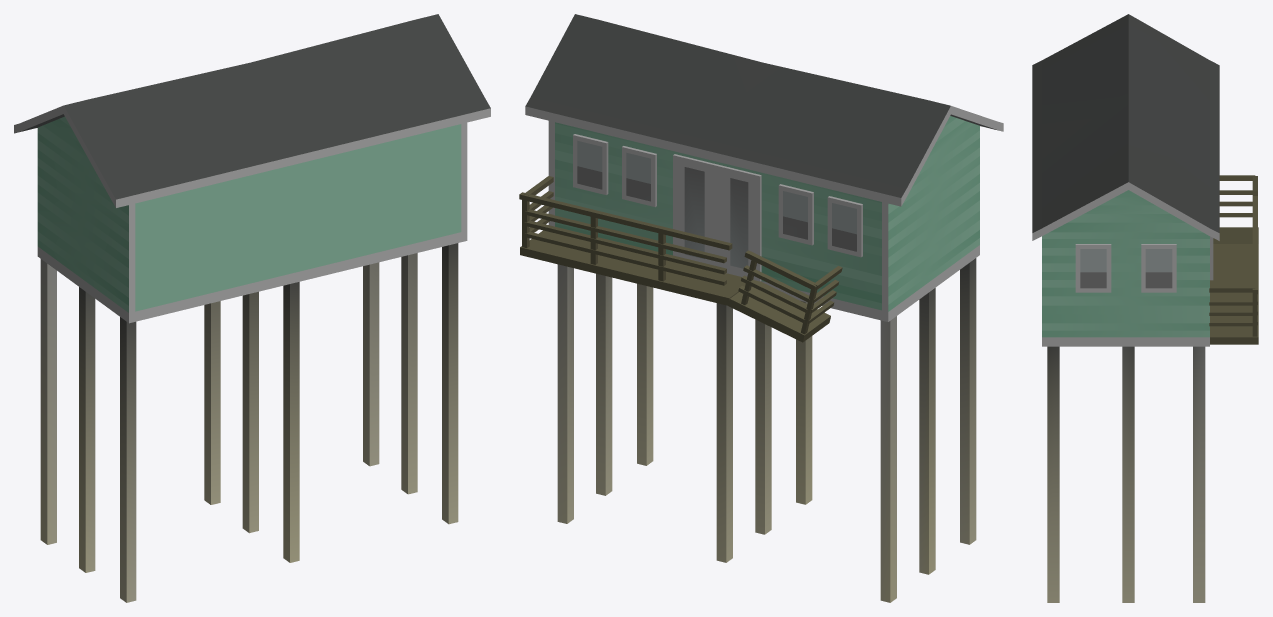
Rendered from GreenStiltHouse.FBX.
3 views of the same model, side by side, from view 1: azimuth 30°, elevation 25°; view 2: azimuth 150°, elevation 25°; view 3: azimuth 270°, elevation 25° (orthographic). The views are drawn at different scales.
Parts seen in each view (by area): view 1: GreenStiltHouse; view 2: GreenStiltHouse; view 3: GreenStiltHouse.
Boxes of the visible parts, bbox=[...] form: GreenStiltHouse: bbox=[14, 14, 490, 602]; GreenStiltHouse: bbox=[519, 14, 1003, 602]; GreenStiltHouse: bbox=[1032, 14, 1258, 602].
Bounding box in the file's own units: 41.2 × 49.35 × 23.47.
